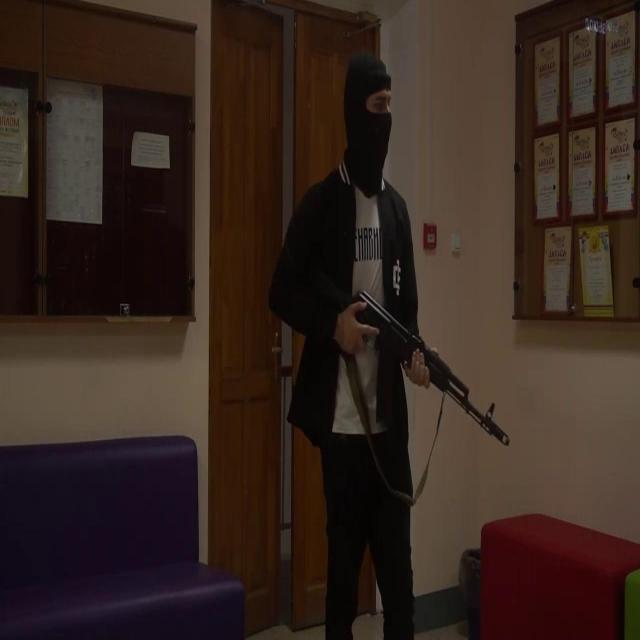gun: (269, 54, 511, 640), (307, 266, 511, 448)
